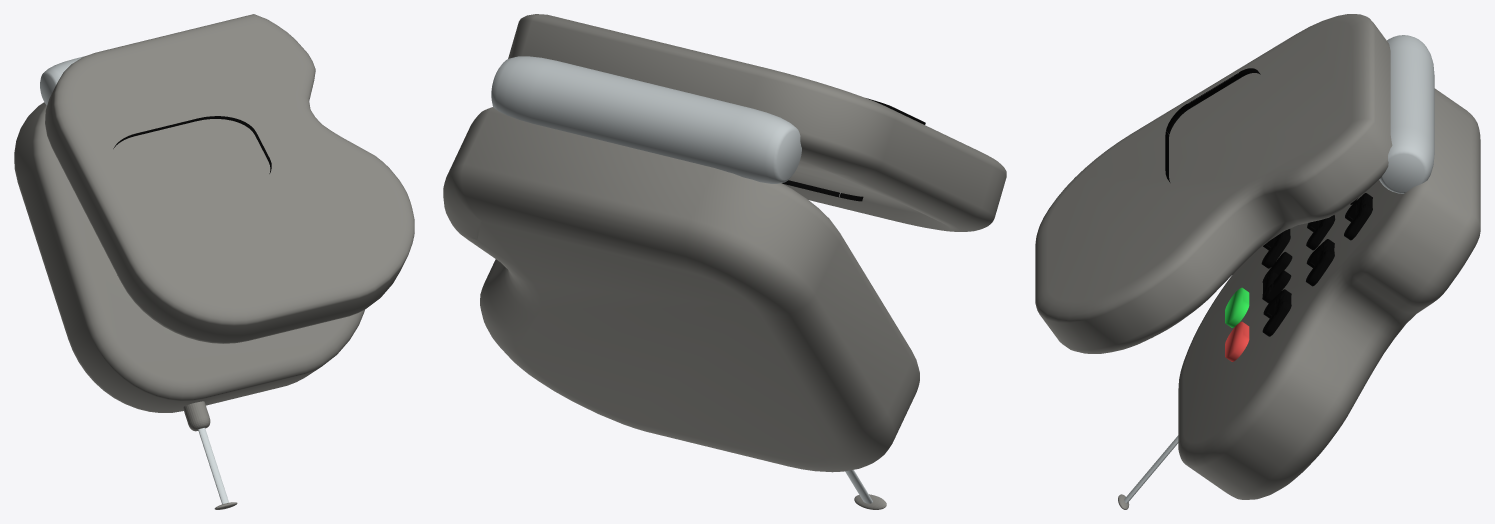
The model's file is project-05.glb.
The picture shows the model from 3 angles, left to right: view 1: azimuth 30°, elevation 25°; view 2: azimuth 150°, elevation 25°; view 3: azimuth 270°, elevation 25°; orthographic projection. The views are drawn at different scales.
Parts seen in each view (by area): view 1: Plane.001, Plane, Cylinder.003, Cylinder.002, Cylinder.001; view 2: Plane, Plane.001, Cylinder.003; view 3: Plane.001, Plane, Cylinder.003, Curve.004, Curve.026, Curve.018, Curve.010, Curve.022, Curve.003, Curve.025, Curve.014.
Boxes of the visible parts, bbox=[...] form: Plane.001: bbox=[45, 14, 414, 343]; Plane: bbox=[14, 102, 364, 412]; Cylinder.003: bbox=[40, 56, 85, 105]; Cylinder.002: bbox=[198, 428, 228, 504]; Cylinder.001: bbox=[183, 401, 210, 431]; Plane: bbox=[443, 107, 919, 472]; Plane.001: bbox=[508, 14, 1006, 231]; Cylinder.003: bbox=[491, 56, 801, 183]; Plane.001: bbox=[1035, 14, 1392, 353]; Plane: bbox=[1178, 88, 1480, 499]; Cylinder.003: bbox=[1379, 35, 1434, 193]; Curve.004: bbox=[1262, 252, 1292, 303]; Curve.026: bbox=[1262, 289, 1291, 336]; Curve.018: bbox=[1344, 193, 1372, 240]; Curve.010: bbox=[1306, 239, 1334, 286]; Curve.022: bbox=[1225, 321, 1249, 361]; Curve.003: bbox=[1225, 287, 1249, 327]; Curve.025: bbox=[1261, 229, 1290, 268]; Curve.014: bbox=[1306, 215, 1335, 250].
Bounding box in the file's own units: 3.36 × 4.37 × 3.8.
Materials: 10 (2 with a texture image).
